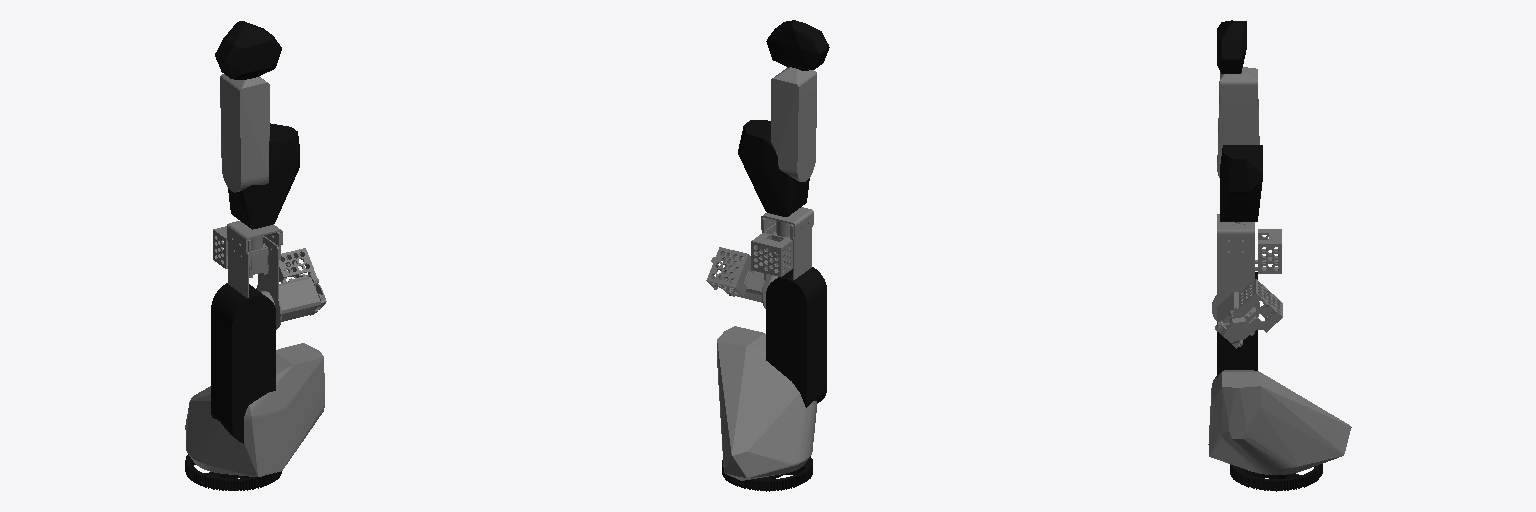
The robot description file, URDF, robot "robocol_arm":
<?xml version="1.0" ?>
<robot name="robocol_arm" xmlns:xacro="http://www.ros.org/wiki/xacro">
  <!-- robocol_link0 -->
  <link name="robocol_link0">
    <visual>
      <origin xyz="0 0 0.0475" rpy="1.5708 0 0"/>
      <geometry>
        <mesh filename="package://robocol_arm_moveit2/meshes/visual/v2_link0.stl" scale="0.001 0.001 0.001"/>
      </geometry>
      <material name="black_metal">
        <color rgba="0.1 0.1 0.1 1"/>
      </material>
    </visual>
    <collision>
      <geometry>
        <mesh filename="package://robocol_arm_moveit2/meshes/collision/v2_link0.stl" scale="0.001 0.001 0.001"/>
      </geometry>
    </collision>
  </link>
  <!-- robocol_joint1 -->
  <joint name="robocol_joint1" type="revolute">
    <safety_controller k_position="100.0" k_velocity="40.0" soft_lower_limit="-2.8973" soft_upper_limit="2.8973"/>
    <origin xyz="0 0 0.048" rpy="1.5708 0 0"/>
    <parent link="robocol_link0"/>
    <child link="robocol_link1"/>
    <axis xyz="0 1 0"/>
    <limit effort="87" lower="-1.5708" upper="1.2217" velocity="0.50265"/>
  </joint>
  <!-- robocol_link1 -->
  <link name="robocol_link1">
    <visual>
      <geometry>
        <mesh filename="package://robocol_arm_moveit2/meshes/visual/v2_link1.stl" scale="0.001 0.001 0.001"/>
      </geometry>
      <material name="gray">
        <color rgba="0.5 0.5 0.5 1"/>
      </material>
    </visual>
    <collision>
      <geometry>
        <mesh filename="package://robocol_arm_moveit2/meshes/collision/link1.stl" scale="0.001 0.001 0.001"/>
      </geometry>
    </collision>
  </link>
  <!-- robocol_joint2 -->
  <joint name="robocol_joint2" type="revolute">
    <safety_controller k_position="100.0" k_velocity="40.0" soft_lower_limit="-2.7628" soft_upper_limit="2.7628"/>
    <parent link="robocol_link1"/>
    <child link="robocol_link2"/>
    <origin xyz="-0.0215 0.102 0.0745" rpy="0 1.5708 0"/>
    <axis xyz="0 0 1"/>
    <limit effort="87" lower="-1.7453" upper="2.3562" velocity="0.67335"/>
  </joint>
  <!-- robocol_link2 -->
  <link name="robocol_link2">
    <visual>
      <origin xyz="0 0 0" rpy="0 0 0"/>
      <geometry>
        <mesh filename="package://robocol_arm_moveit2/meshes/visual/v2_link2.stl" scale="0.001 0.001 0.001"/>
      </geometry>
      <material name="black_metal">
        <color rgba="0.1 0.1 0.1 1"/>
      </material>
    </visual>
    <collision>
      <geometry>
        <mesh filename="package://robocol_arm_moveit2/meshes/collision/v2_link2.stl" scale="0.001 0.001 0.001"/>
      </geometry>
    </collision>
  </link>
  <!-- robocol_joint3 -->
  <joint name="robocol_joint3" type="revolute">
    <safety_controller k_position="100.0" k_velocity="40.0" soft_lower_limit="-2.8973" soft_upper_limit="2.8973"/>
    <parent link="robocol_link2"/>
    <child link="robocol_link3"/>
    <origin xyz="0.0 0.2 0.015" rpy="0 -1.5708 0"/>
    <axis xyz="1 0 0"/>
    <limit effort="87" lower="-2.4435" upper="2.5307" velocity="0.67335"/>
  </joint>
  <!-- robocol_link3 -->
  <link name="robocol_link3">
    <visual>
      <origin xyz="0 0 0" rpy="0 0 0"/>
      <geometry>
        <mesh filename="package://robocol_arm_moveit2/meshes/visual/v2_link3.stl" scale="0.001 0.001 0.001"/>
      </geometry>
      <material name="gray">
        <color rgba="0.5 0.5 0.5 1"/>
      </material>
    </visual>
    <collision>
      <geometry>
        <mesh filename="package://robocol_arm_moveit2/meshes/collision/v2_link3.stl" scale="0.001 0.001 0.001"/>
      </geometry>
    </collision>
  </link>
  <!-- robocol_joint4 -->
  <joint name="robocol_joint4" type="revolute">
    <safety_controller k_position="100.0" k_velocity="40.0" soft_lower_limit="-3.0718" soft_upper_limit="2.97"/>
    <parent link="robocol_link3"/>
    <child link="robocol_link4"/>
    <origin xyz="0.0065 0.173 -0.005" rpy="-1.5708 3.1416 0"/>
    <axis xyz="0 0 1"/>
    <limit effort="87" lower="-2.97" upper="2.97" velocity="2.453986"/>
  </joint>
  <!-- robocol_link4 -->
  <link name="robocol_link4">
    <visual>
      <origin xyz="0 0 0" rpy="0 0 0"/>
      <geometry>
        <mesh filename="package://robocol_arm_moveit2/meshes/visual/v2_link4.stl" scale="0.001 0.001 0.001"/>
      </geometry>
      <material name="black_metal">
        <color rgba="0.1 0.1 0.1 1"/>
      </material>
    </visual>
    <collision>
      <geometry>
        <mesh filename="package://robocol_arm_moveit2/meshes/collision/v2_link4.stl" scale="0.001 0.001 0.001"/>
      </geometry>
    </collision>
  </link>
  <!-- robocol_joint5 -->
  <joint name="robocol_joint5" type="revolute">
    <safety_controller k_position="100.0" k_velocity="40.0" soft_lower_limit="-2.8973" soft_upper_limit="2.8973"/>
    <parent link="robocol_link4"/>
    <child link="robocol_link5"/>
    <origin xyz="0.018 0.0 0.102" rpy="0 -1.5708 3.1416"/>
    <axis xyz="0 0 1"/>
    <limit effort="12" lower="-2.39" upper="2.39" velocity="0.50265"/>
  </joint>
  <!-- robocol_link5 -->
  <link name="robocol_link5">
    <visual>
      <origin xyz="0 0 0" rpy="0 0 0"/>
      <geometry>
        <mesh filename="package://robocol_arm_moveit2/meshes/visual/v2_link5.stl" scale="0.001 0.001 0.001"/>
      </geometry>
      <material name="gray">
        <color rgba="0.5 0.5 0.5 1"/>
      </material>
    </visual>
    <collision>
      <geometry>
        <mesh filename="package://robocol_arm_moveit2/meshes/collision/v2_link5.stl" scale="0.001 0.001 0.001"/>
      </geometry>
    </collision>
  </link>
  <!-- robocol_joint6 -->
  <joint name="robocol_joint6" type="revolute">
    <origin xyz="0.185 -0.015 0.0" rpy="-1.5708 0 0"/>
    <parent link="robocol_link5"/>
    <child link="robocol_hand"/>
    <axis xyz="1 0 0"/>
    <limit effort="12" lower="-6.28" upper="6.28" velocity="2.453986"/>
  </joint>
  <!-- robocol_hand -->
  <link name="robocol_hand">
    <visual>
      <geometry>
        <mesh filename="package://robocol_arm_moveit2/meshes/visual/v2_hand.stl" scale="0.001 0.001 0.001"/>
      </geometry>
      <material name="black_metal">
        <color rgba="0.1 0.1 0.1 1"/>
      </material>
    </visual>
    <collision>
      <geometry>
        <mesh filename="package://robocol_arm_moveit2/meshes/collision/v2_hand.stl" scale="0.001 0.001 0.001"/>
      </geometry>
    </collision>
  </link>
</robot>

--- What the picture shows (computed from the rendered views, not written in the file) ---
The picture shows the robot from 3 angles, left to right: view 1: azimuth 30°, elevation 25°; view 2: azimuth 150°, elevation 25°; view 3: azimuth 270°, elevation 25°; orthographic projection.
Model robocol_arm with 7 links and 6 joints (6 revolute), rooted at robocol_link0, posed every joint at zero.
Links seen in each view (by area): view 1: robocol_link1, robocol_link2, robocol_link3, robocol_link5, robocol_link4, robocol_hand, robocol_link0; view 2: robocol_link1, robocol_link2, robocol_link3, robocol_link5, robocol_link4, robocol_hand, robocol_link0; view 3: robocol_link1, robocol_link3, robocol_link4, robocol_link5, robocol_hand, robocol_link0, robocol_link2.
Link boxes in pixels (left/top/right/bottom): robocol_link1: left=185, top=343, right=324, bottom=476; robocol_link2: left=211, top=283, right=275, bottom=443; robocol_link3: left=213, top=221, right=326, bottom=329; robocol_link5: left=220, top=74, right=269, bottom=192; robocol_link4: left=228, top=123, right=299, bottom=229; robocol_hand: left=215, top=21, right=281, bottom=79; robocol_link0: left=185, top=454, right=281, bottom=490; robocol_link1: left=717, top=326, right=817, bottom=480; robocol_link2: left=766, top=267, right=826, bottom=407; robocol_link3: left=706, top=207, right=813, bottom=308; robocol_link5: left=771, top=67, right=816, bottom=181; robocol_link4: left=738, top=120, right=809, bottom=216; robocol_hand: left=766, top=20, right=829, bottom=70; robocol_link0: left=722, top=456, right=812, bottom=491; robocol_link1: left=1208, top=370, right=1351, bottom=474; robocol_link3: left=1212, top=214, right=1282, bottom=348; robocol_link4: left=1220, top=145, right=1262, bottom=221; robocol_link5: left=1217, top=67, right=1259, bottom=177; robocol_hand: left=1217, top=20, right=1246, bottom=73; robocol_link0: left=1230, top=464, right=1322, bottom=491; robocol_link2: left=1217, top=272, right=1257, bottom=377.
Size in the robot's own frame: 0.2202 by 0.2645 by 0.9115 metres.
7 mesh visuals loaded from 7 distinct referenced files (7 binary STL).